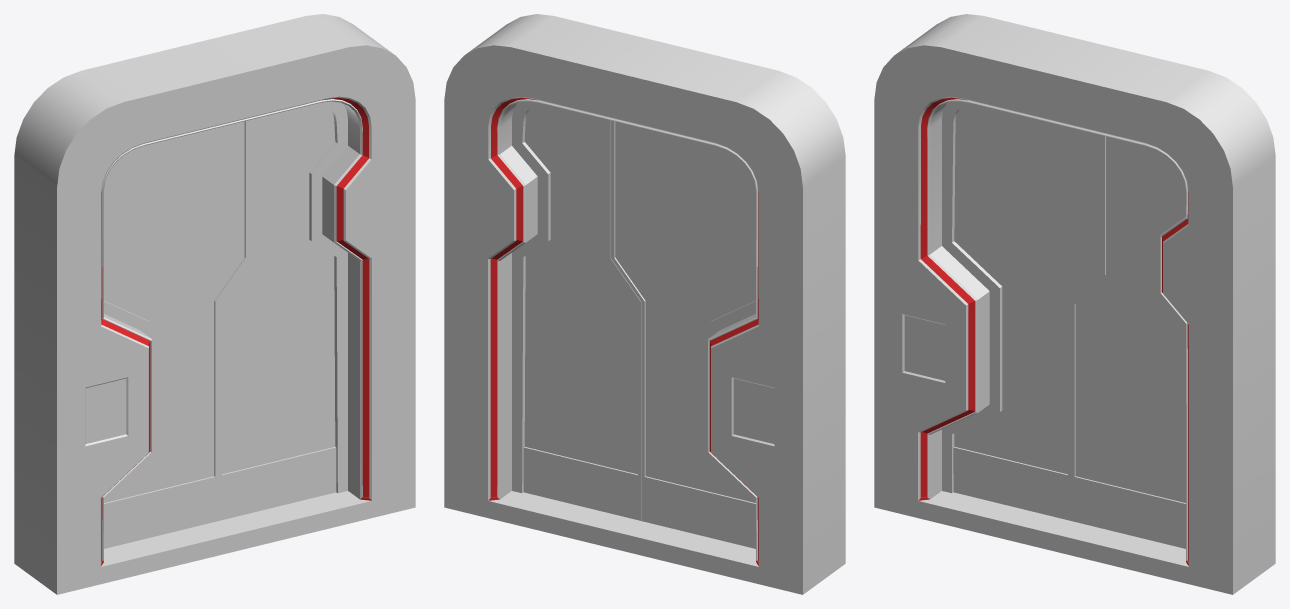
File: Door.fbx
The picture shows the model from 3 angles, left to right: view 1: azimuth 30°, elevation 25°; view 2: azimuth 150°, elevation 25°; view 3: azimuth 330°, elevation 25°; orthographic projection.
Parts seen in each view (by area): view 1: main, doormove1, doormove2; view 2: main, doormove1, doormove2; view 3: main, doormove1, doormove2.
Boxes of the visible parts, <box> form: main: <box>14,14,415,594</box>; doormove1: <box>104,120,248,548</box>; doormove2: <box>218,105,336,520</box>; main: <box>444,14,845,594</box>; doormove1: <box>611,120,755,548</box>; doormove2: <box>523,105,641,520</box>; main: <box>874,14,1275,594</box>; doormove1: <box>953,105,1101,520</box>; doormove2: <box>1071,135,1185,548</box>.
Size of the model in its own units: 174 by 221 by 35.97.
